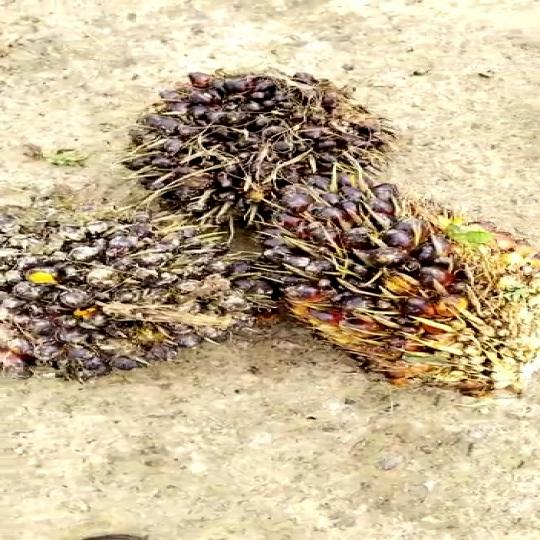mentah: (234, 187, 540, 396), (0, 194, 295, 386), (136, 75, 401, 213)
